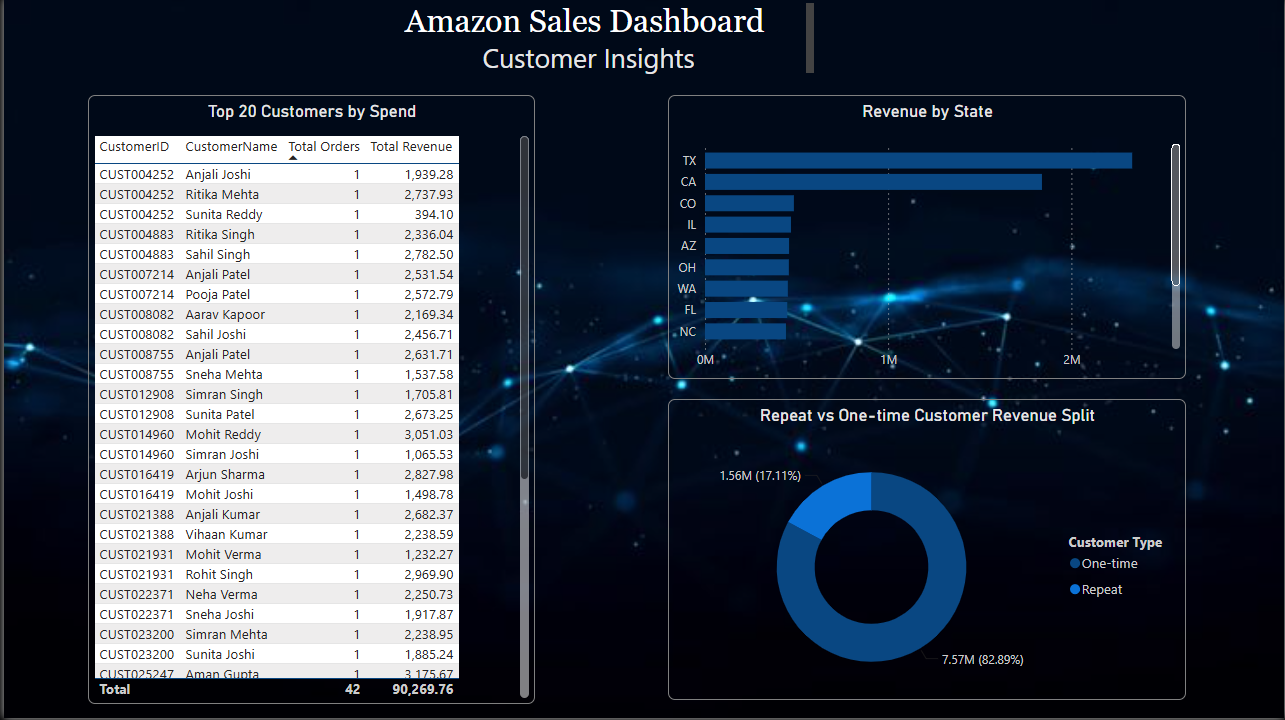

What the dashboard file says about the page in this screenshot:
{"tool":"powerbi","page":{"name":"Customer Insights","canvas":[1280,720],"ordinal":2},"visuals":[{"type":"textbox","box":[362.8,0,452.5,80.6],"z":0},{"type":"tableEx","title":"Top 20 Customers by Spend","fields":{"Values":["amazon_sales_clean.CustomerID","amazon_sales_clean.CustomerName","amazon_sales_clean.Total Orders","amazon_sales_clean.Total Revenue"]},"box":[83.7,96.8,447.5,608.8],"z":1000},{"type":"donutChart","title":"Repeat vs One-time Customer Revenue Split","fields":{"Category":["amazon_sales_clean.Customer Type"],"Y":["amazon_sales_clean.Total Revenue"]},"box":[664.2,401.1,517.8,301.3],"z":2000},{"type":"clusteredBarChart","title":"Revenue by State","fields":{"Category":["amazon_sales_clean.State"],"Y":["amazon_sales_clean.Total Revenue"]},"box":[664.2,96.8,518,284.2],"z":3000}]}

Visuals, with their boxes in screenshot pixels (x1, y1, x2, y2), scaled from the page's 1280x720 canvas onto the 1285x720 screenshot:
textbox: l=364, t=0, r=818, b=81
"Top 20 Customers by Spend" tableEx: l=84, t=97, r=533, b=706
"Repeat vs One-time Customer Revenue Split" donutChart: l=667, t=401, r=1187, b=702
"Revenue by State" clusteredBarChart: l=667, t=97, r=1187, b=381
